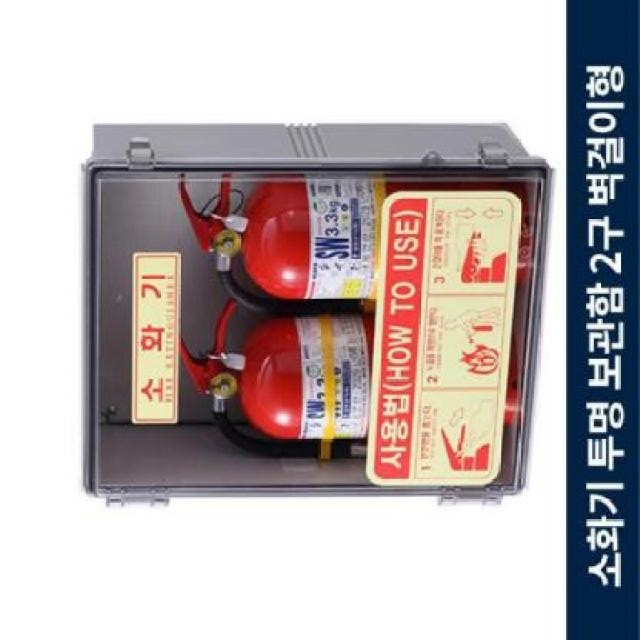fire extinguisher: (178, 172, 530, 313), (178, 302, 377, 462)
